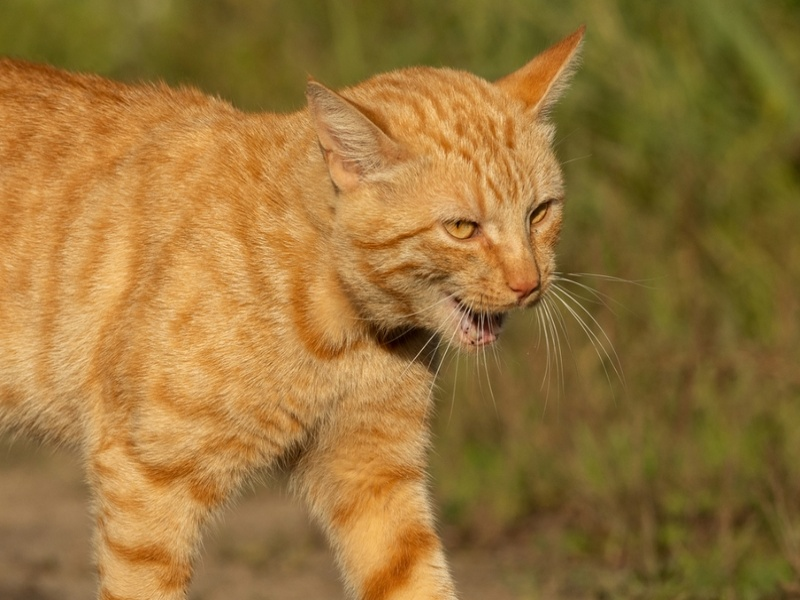cat: (7, 19, 593, 593)
